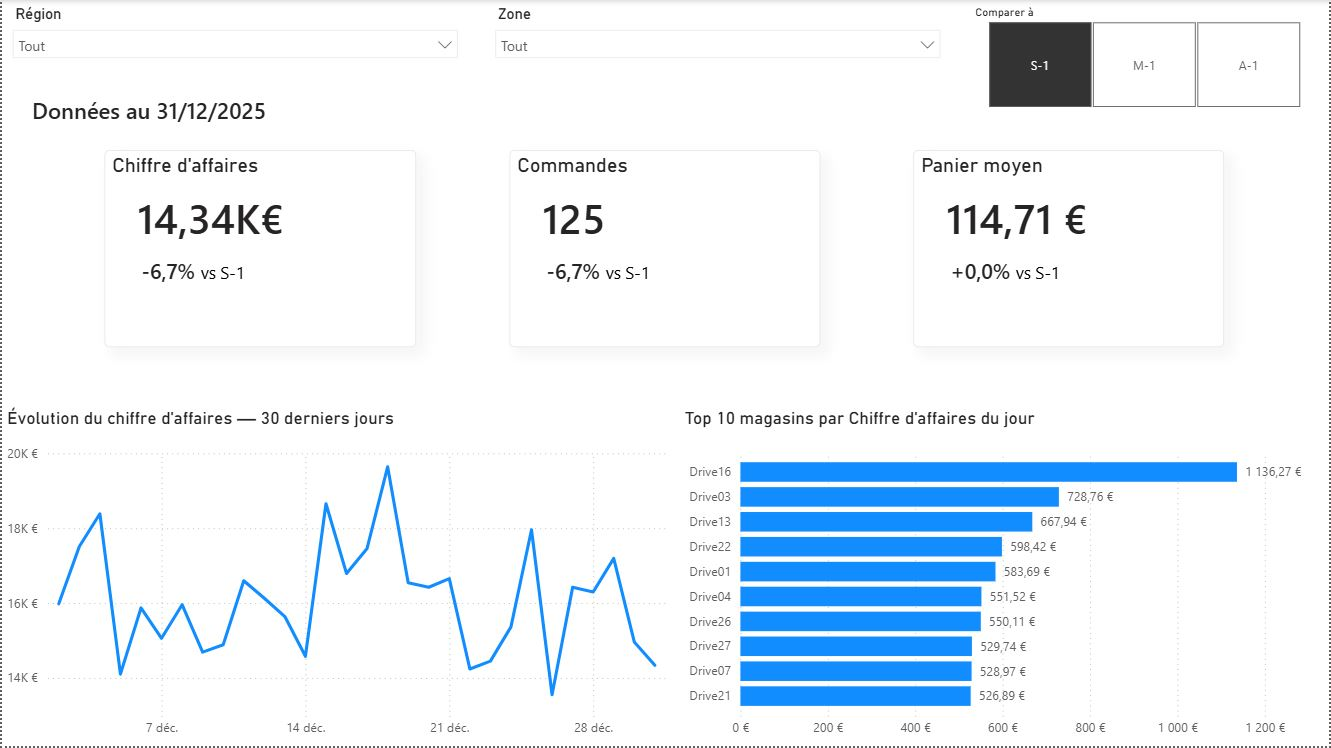

What the dashboard file says about the page in this screenshot:
{"tool":"powerbi","page":{"name":"Activité globale","canvas":[1280,720],"ordinal":0},"visuals":[{"type":"slicer","fields":{"Values":["Comparaison.Periode"]},"box":[926.8,0,350,110],"z":0},{"type":"slicer","fields":{"Values":["analytics dim_magasins.region"]},"box":[0,0,450,70],"z":1000},{"type":"slicer","fields":{"Values":["analytics dim_magasins.zone_geographique"]},"box":[465.7,0,450,70],"z":2000},{"type":"lineChart","title":"Évolution du chiffre d''affaires — 30 derniers jours","fields":{"Category":["analytics dim_date.date_jour"],"Y":["Mesures.Chiffre d'affaires"]},"box":[0,392.9,654.3,327.1],"z":3000},{"type":"clusteredBarChart","title":"Top 10 magasins par Chiffre d''affaires du jour","fields":{"Category":["analytics dim_magasins.nom_magasin"],"Y":["Mesures.Chiffre d'affaires dernier jour"]},"box":[653.9,393.3,626.1,326.9],"z":4000},{"type":"cardVisual","title":"Données au","fields":{"Data":["Mesures.Libellé dernière date"]},"box":[0,70,350,70],"z":5000},{"type":"cardVisual","title":"Chiffre d''affaires","fields":{"Data":["Mesures.Chiffre d'affaires dernier jour"]},"box":[98.9,144.8,300.4,190],"z":6000},{"type":"cardVisual","title":"Commandes","fields":{"Data":["Mesures.Commandes dernier jour"]},"box":[489.8,144.8,300,190],"z":7000},{"type":"cardVisual","title":"Panier moyen","fields":{"Data":["Mesures.Panier moyen dernier jour"]},"box":[879,144.8,300,190],"z":8000}]}

Visuals, with their boxes in screenshot pixels (x1, y1, x2, y2), scaled from the page's 1280x720 canvas onto the 1331x748 screenshot:
slicer - Comparaison.Periode: select_region(964, 0, 1328, 114)
slicer - analytics dim_magasins.region: select_region(0, 0, 468, 73)
slicer - analytics dim_magasins.zone_geographique: select_region(484, 0, 952, 73)
"Évolution du chiffre d''affaires — 30 derniers jours" lineChart: select_region(0, 408, 680, 747)
"Top 10 magasins par Chiffre d''affaires du jour" clusteredBarChart: select_region(680, 409, 1330, 747)
"Données au" cardVisual: select_region(0, 73, 364, 145)
"Chiffre d''affaires" cardVisual: select_region(103, 150, 415, 348)
"Commandes" cardVisual: select_region(509, 150, 821, 348)
"Panier moyen" cardVisual: select_region(914, 150, 1226, 348)
